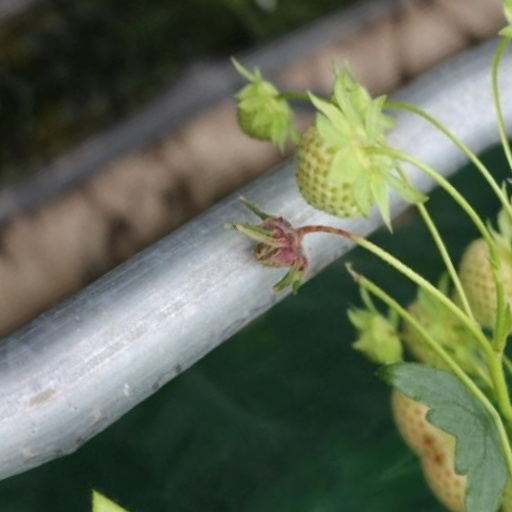Gray Mold: (241, 203, 339, 312)
